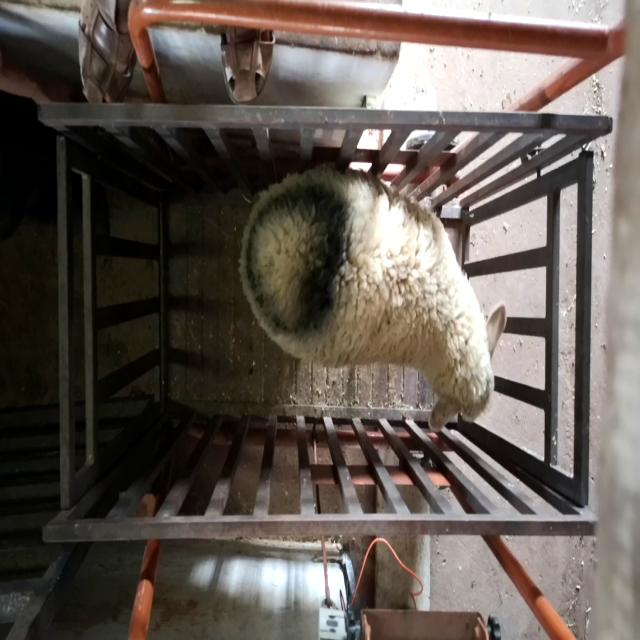sheep: (239, 166, 507, 432)
